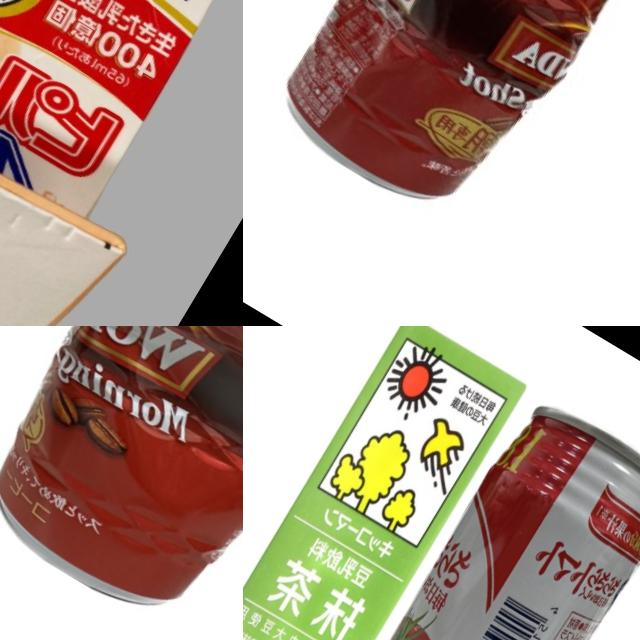Aluminium Foil: (243, 326, 540, 640), (266, 0, 640, 243), (0, 0, 243, 326)
Can: (281, 380, 640, 640), (0, 326, 243, 640)
